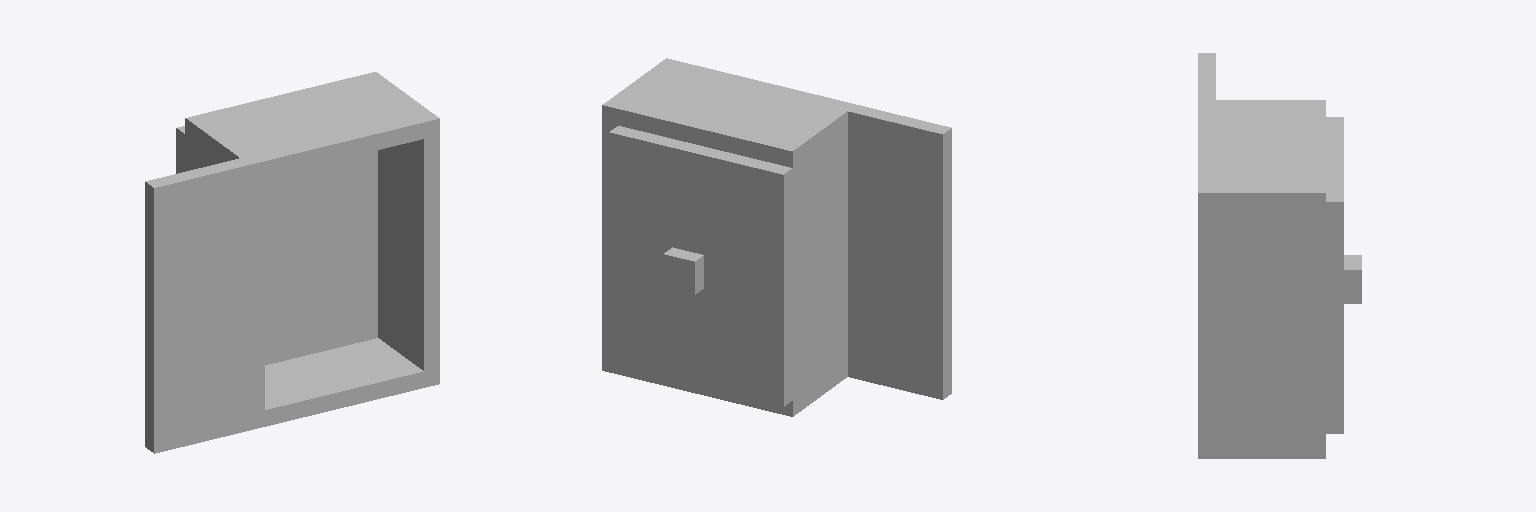
File: Cap_Black.obj
3 renders of one model, left to right at view 1: azimuth 30°, elevation 25°; view 2: azimuth 150°, elevation 25°; view 3: azimuth 270°, elevation 25°, orthographic.
Parts seen in each view (by area): view 1: Cap_Black; view 2: Cap_Black; view 3: Cap_Black.
Boxes of the visible parts, x1=… form: Cap_Black: x1=145, y1=72, x2=439, y2=453; Cap_Black: x1=602, y1=58, x2=951, y2=416; Cap_Black: x1=1198, y1=53, x2=1361, y2=458.
Bounding box in the file's own units: 1.8 × 1.6 × 0.9.